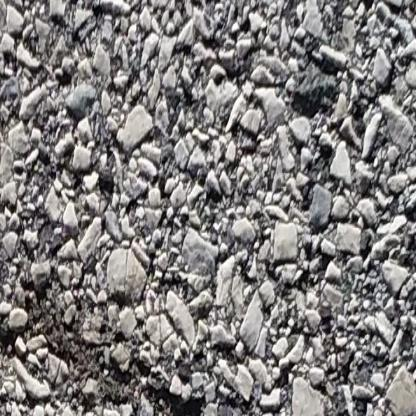Cracks: (0, 287, 208, 416)
